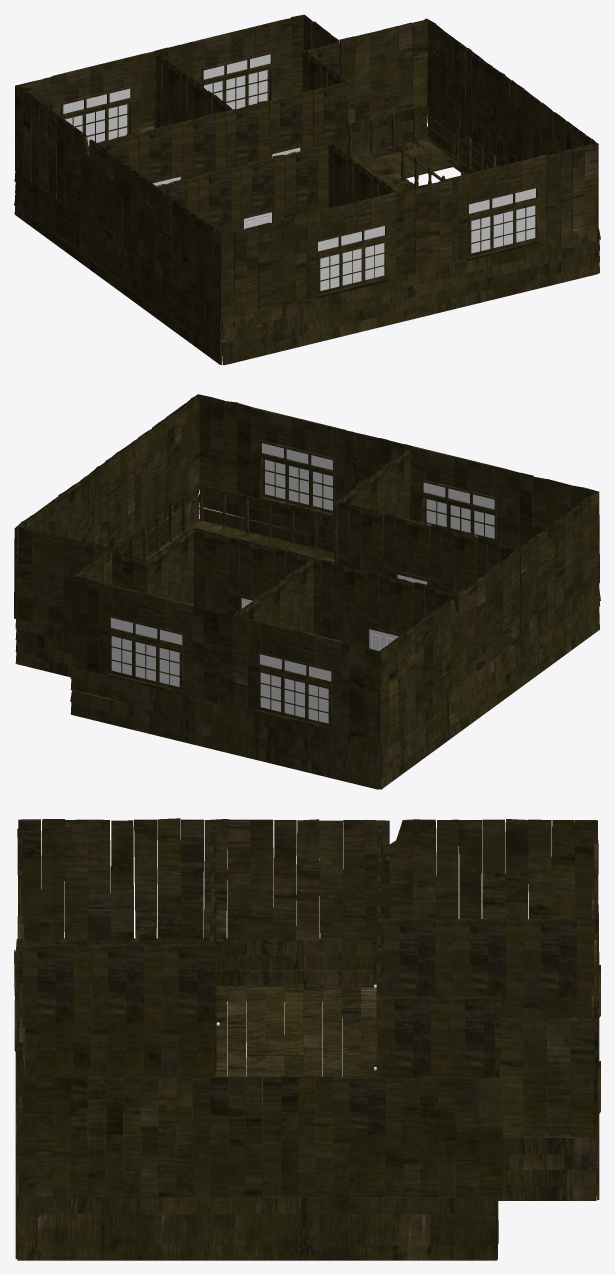
File: RoomPartition.fbx
The picture shows the model from 3 angles, top to bottom: view 1: azimuth 30°, elevation 25°; view 2: azimuth 150°, elevation 25°; view 3: azimuth 270°, elevation 25°; orthographic projection. The views are drawn at different scales.
Visible parts, largest first — view 1: WoodPlankWall, WoodPlankWall2, Cube.002, Cube.018, GlassWindowFloor2, GlassWindowFloor2.001, GlassWindowFloor2.002, GlassWindowFloor2.003, WoodPlankFloor, GlassWindowFloor2.006, GlassWindowFloor2.007, GlassWindowFloor2.005 (+2 smaller); view 2: WoodPlankWall, WoodPlankWall2, Cube.002, Cube.018, GlassWindowFloor2.002, GlassWindowFloor2.003, GlassWindowFloor2.001, GlassWindowFloor2, GlassWindowFloor2.004, GlassWindowFloor2.005, GlassWindowFloor2.007, GlassWindowFloor2.006 (+1 smaller); view 3: WoodPlankWall, WoodPlankWall2, Cube.002, Cube.018, WoodPlankFloor, GlassWindowFloor2, GlassWindowFloor2.003.
Part boxes in pixels (x1,y1,x2,y2): WoodPlankWall: (15,14,598,321); WoodPlankWall2: (14,105,600,365); Cube.002: (97,42,348,183); Cube.018: (157,143,395,244); GlassWindowFloor2: (306,192,395,299); GlassWindowFloor2.001: (457,155,546,260); GlassWindowFloor2.002: (192,20,280,108); GlassWindowFloor2.003: (51,54,140,151); WoodPlankFloor: (14,138,459,356); GlassWindowFloor2.006: (318,226,384,290); GlassWindowFloor2.007: (469,188,535,253); GlassWindowFloor2.005: (203,54,270,109); WoodPlankWall: (14,394,599,743); WoodPlankWall2: (15,484,600,789); Cube.002: (112,527,457,647); Cube.018: (333,450,520,593); GlassWindowFloor2.002: (99,582,193,695); GlassWindowFloor2.003: (248,618,342,732); GlassWindowFloor2.001: (251,407,346,518); GlassWindowFloor2: (413,446,507,542); GlassWindowFloor2.004: (260,654,331,723); GlassWindowFloor2.005: (111,617,182,686); GlassWindowFloor2.007: (262,443,332,510); GlassWindowFloor2.006: (423,482,494,538); WoodPlankWall: (17,818,598,1199); WoodPlankWall2: (14,938,599,1260); Cube.002: (376,825,593,1160); Cube.018: (22,825,216,1108); WoodPlankFloor: (53,986,596,1196); GlassWindowFloor2: (14,878,23,1052); GlassWindowFloor2.003: (591,844,600,1018).
Size of the model in its own units: 1270 by 415 by 1208.
